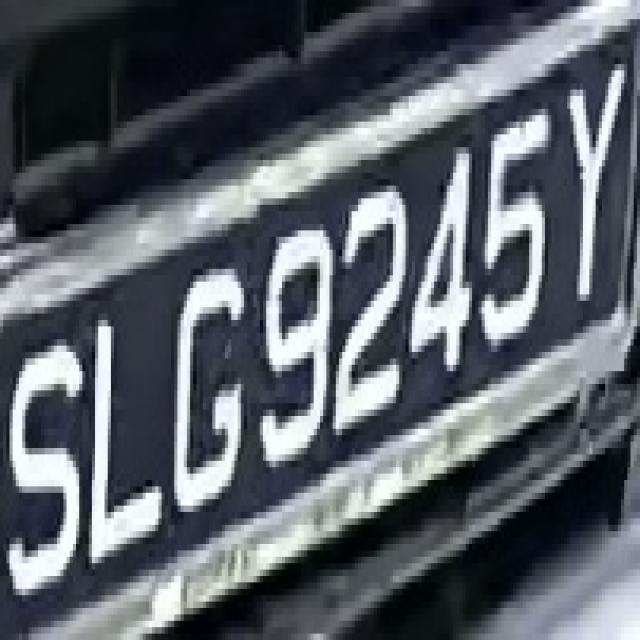2: (339, 160, 409, 429)
4: (409, 128, 478, 416)
5: (479, 115, 548, 358)
9: (250, 211, 336, 474)
G: (168, 243, 253, 538)
L: (95, 275, 168, 563)
S: (13, 320, 86, 589)
Y: (555, 58, 624, 326)
